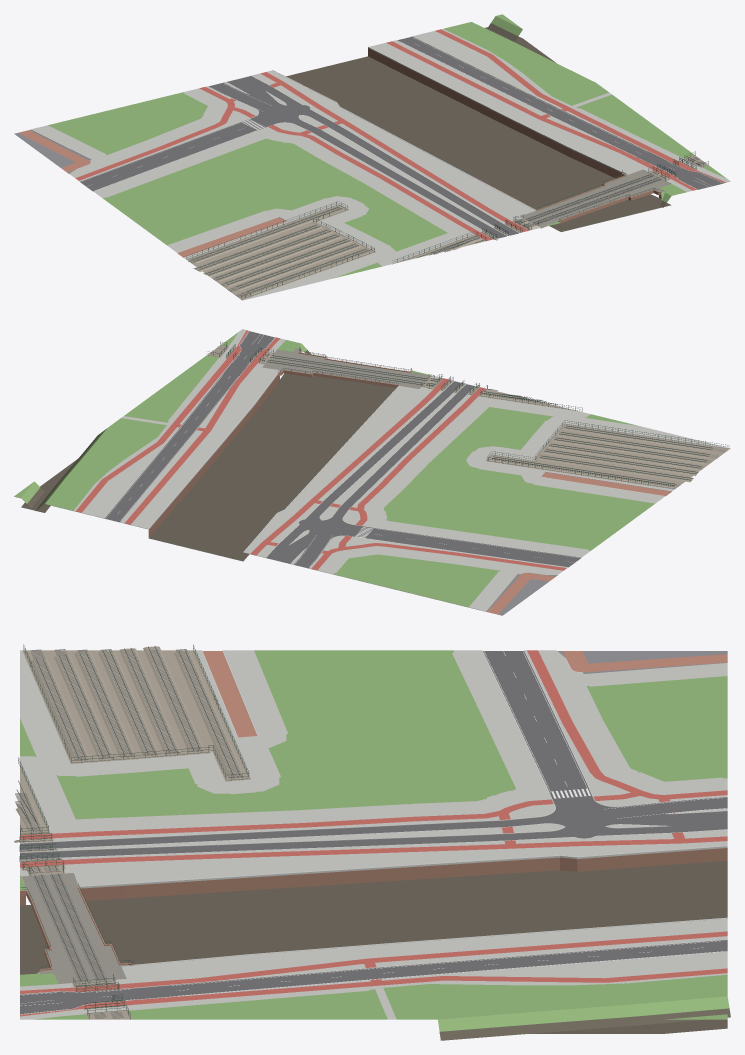
Rendered from ground_8_5.glb.
3 views of the same model, one above another, from view 1: azimuth 30°, elevation 25°; view 2: azimuth 150°, elevation 25°; view 3: azimuth 270°, elevation 25° (orthographic). The views are drawn at different scales.
Parts seen in each view (by area): view 1: ground_8_5; view 2: ground_8_5; view 3: ground_8_5.
Boxes of the visible parts, x1,y1,x2,y2 form: ground_8_5: (14,14,730,300); ground_8_5: (14,329,730,615); ground_8_5: (14,644,730,1040).
Bounding box in the file's own units: 206 × 5.17 × 164.
